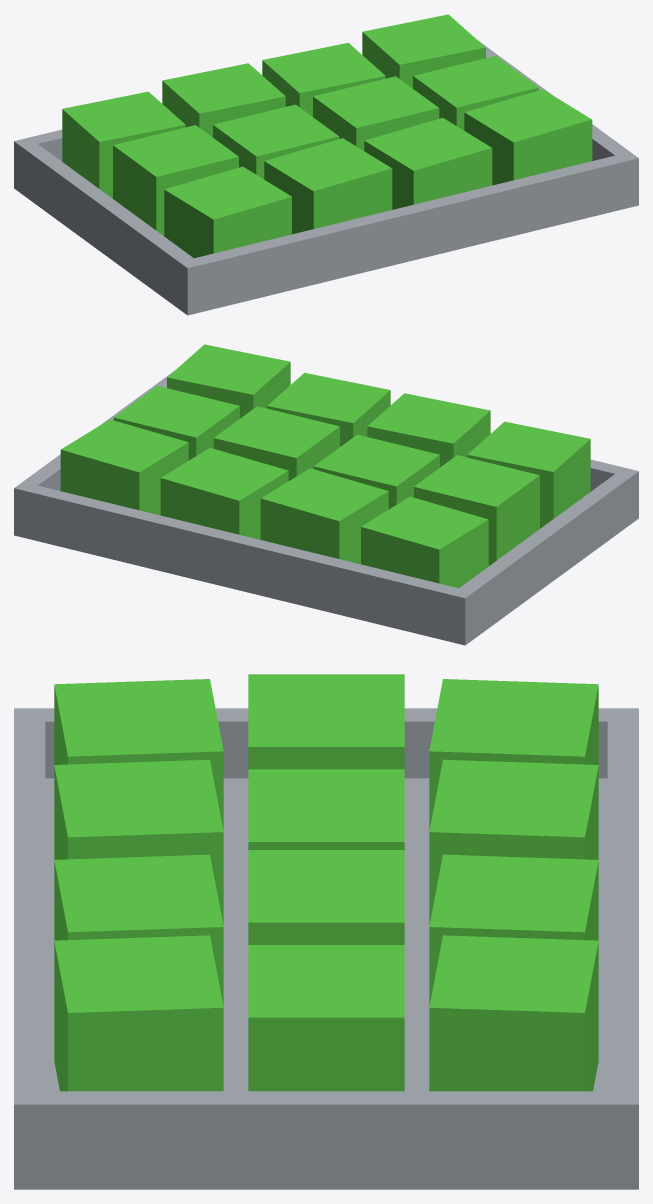
The model's file is prison_jelly_tray.glb.
The picture shows the model from 3 angles, top to bottom: view 1: azimuth 30°, elevation 25°; view 2: azimuth 150°, elevation 25°; view 3: azimuth 270°, elevation 25°; orthographic projection. The views are drawn at different scales.
Parts seen in each view (by area): view 1: jelly_jelly, tray_pot_steel; view 2: jelly_jelly, tray_pot_steel; view 3: jelly_jelly, tray_pot_steel.
Boxes of the visible parts, bbox=[...] form: jelly_jelly: bbox=[62, 14, 592, 258]; tray_pot_steel: bbox=[14, 41, 638, 315]; jelly_jelly: bbox=[60, 344, 590, 588]; tray_pot_steel: bbox=[14, 371, 638, 645]; jelly_jelly: bbox=[54, 674, 598, 1091]; tray_pot_steel: bbox=[14, 708, 638, 1189].
Size of the model in its own units: 0.6 by 0.105 by 0.4.
